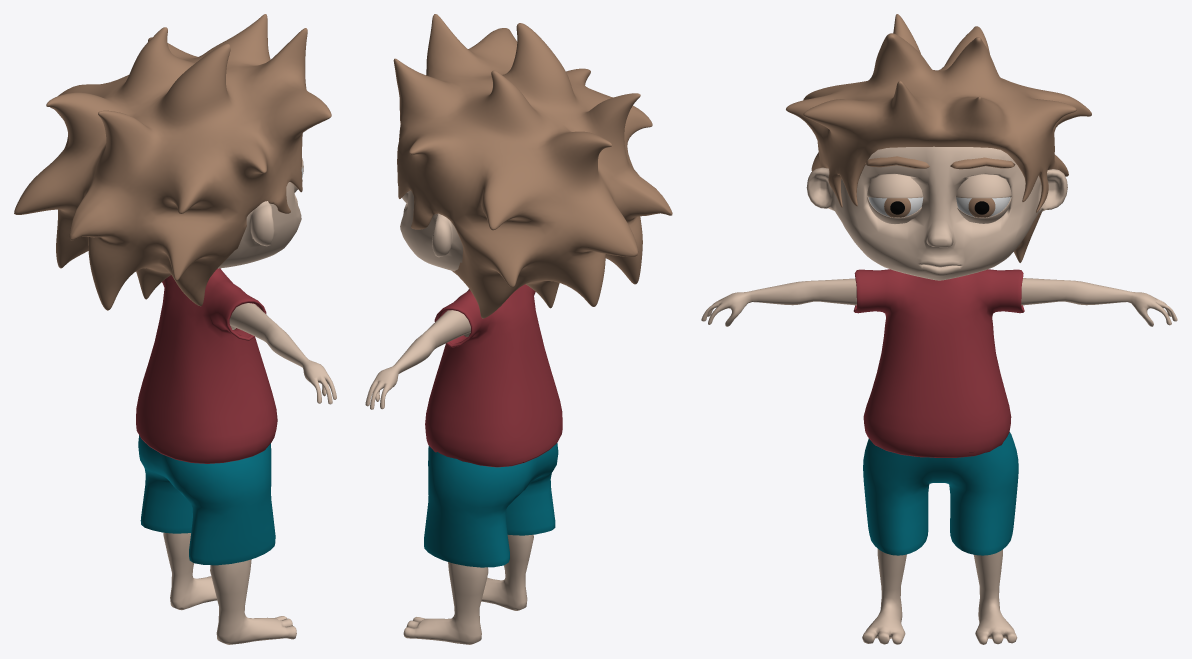
File: sam_deprecated.fbx
The picture shows the model from 3 angles, left to right: view 1: azimuth 30°, elevation 25°; view 2: azimuth 150°, elevation 25°; view 3: azimuth 270°, elevation 25°; orthographic projection. The views are drawn at different scales.
Visible parts, largest first — view 1: hair, t_shirt, pants, polySurface1; view 2: hair, t_shirt, pants, polySurface1; view 3: polySurface1, hair, t_shirt, pants, pSphere2 (×2), pSphere4, pSphere5.
Part boxes in pixels (left/top/right/bottom): hair: left=14, top=14, right=331, bottom=310; t_shirt: left=136, top=268, right=277, bottom=463; pants: left=138, top=435, right=275, bottom=565; polySurface1: left=163, top=182, right=336, bottom=644; hair: left=393, top=14, right=672, bottom=318; t_shirt: left=425, top=284, right=562, bottom=467; pants: left=424, top=443, right=558, bottom=567; polySurface1: left=365, top=190, right=533, bottom=644; polySurface1: left=701, top=146, right=1177, bottom=644; hair: left=786, top=14, right=1091, bottom=262; t_shirt: left=853, top=269, right=1024, bottom=457; pants: left=863, top=432, right=1018, bottom=555; pSphere2 (×2): left=867, top=174, right=1011, bottom=198; pSphere4: left=868, top=197, right=923, bottom=217; pSphere5: left=956, top=197, right=1010, bottom=217.
Bounding box in the file's own units: 5.56 × 12.21 × 9.03.
